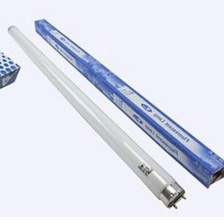book: (31, 17, 224, 190)
carton: (0, 45, 23, 89)
light_bulb: (6, 23, 188, 212)
